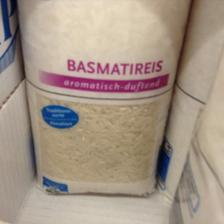Reis: (15, 0, 191, 196)
